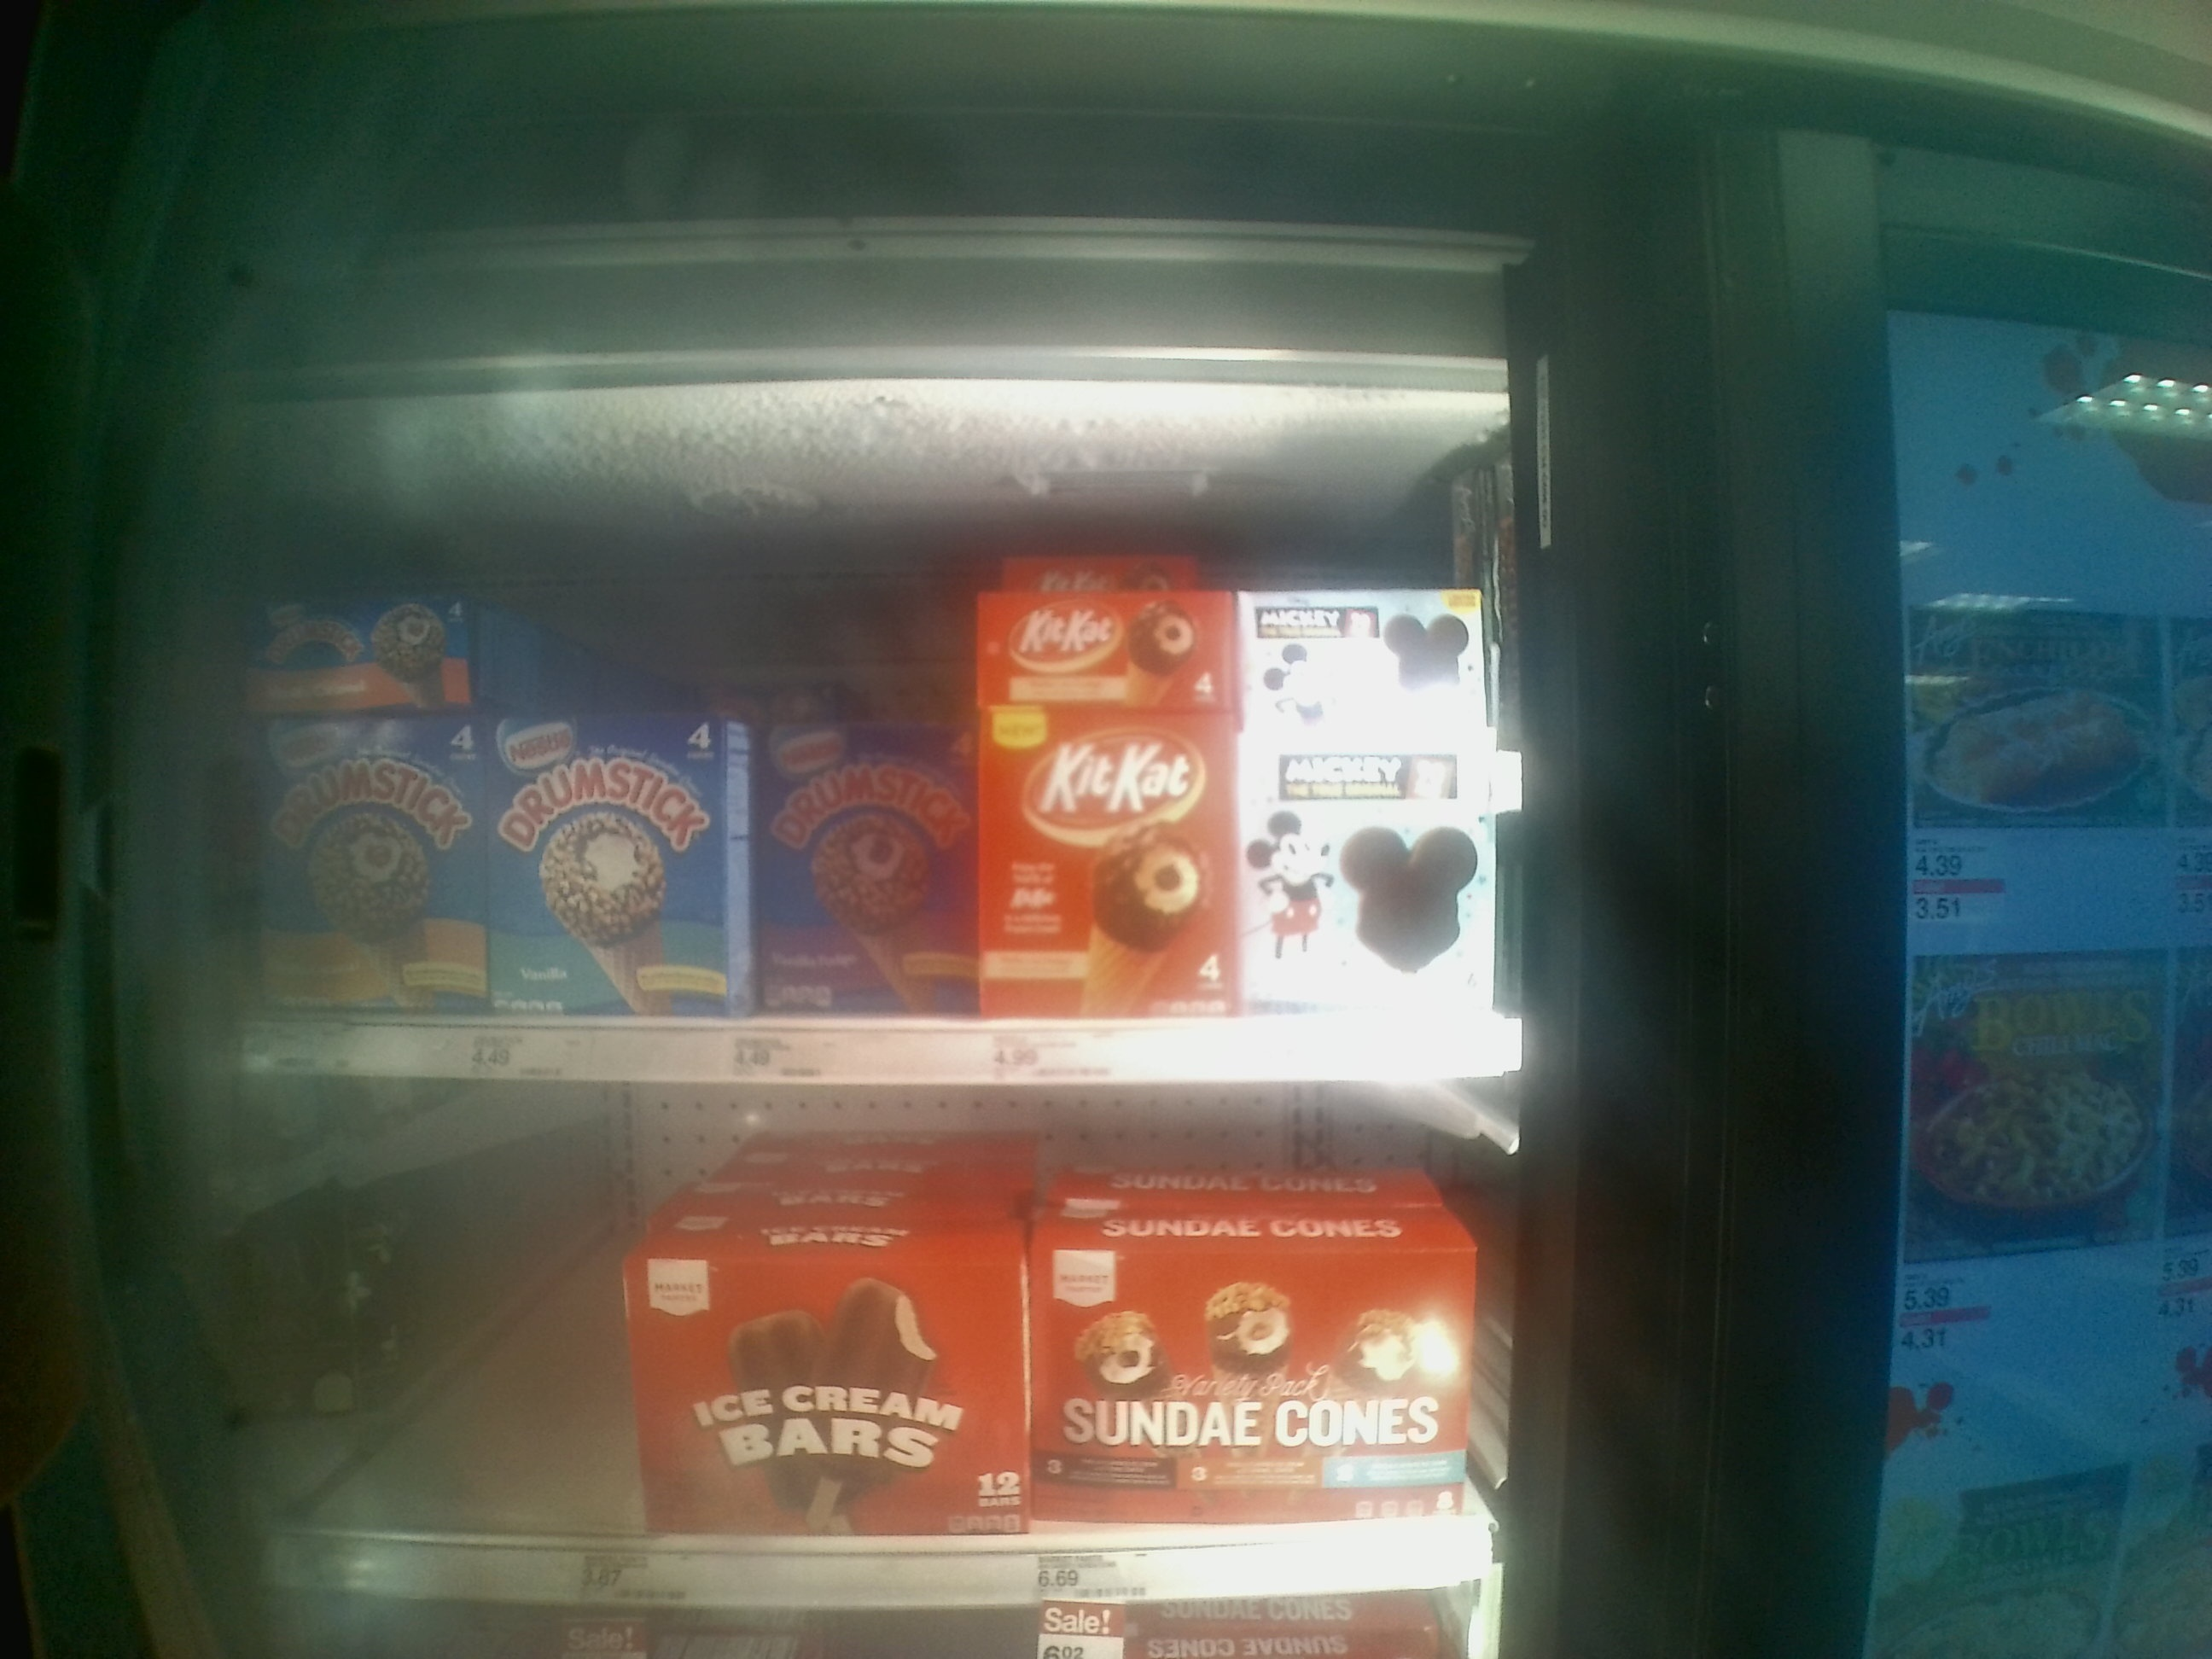ice-cream-shelf: (165, 528, 1508, 1080), (171, 1087, 1486, 1595)
